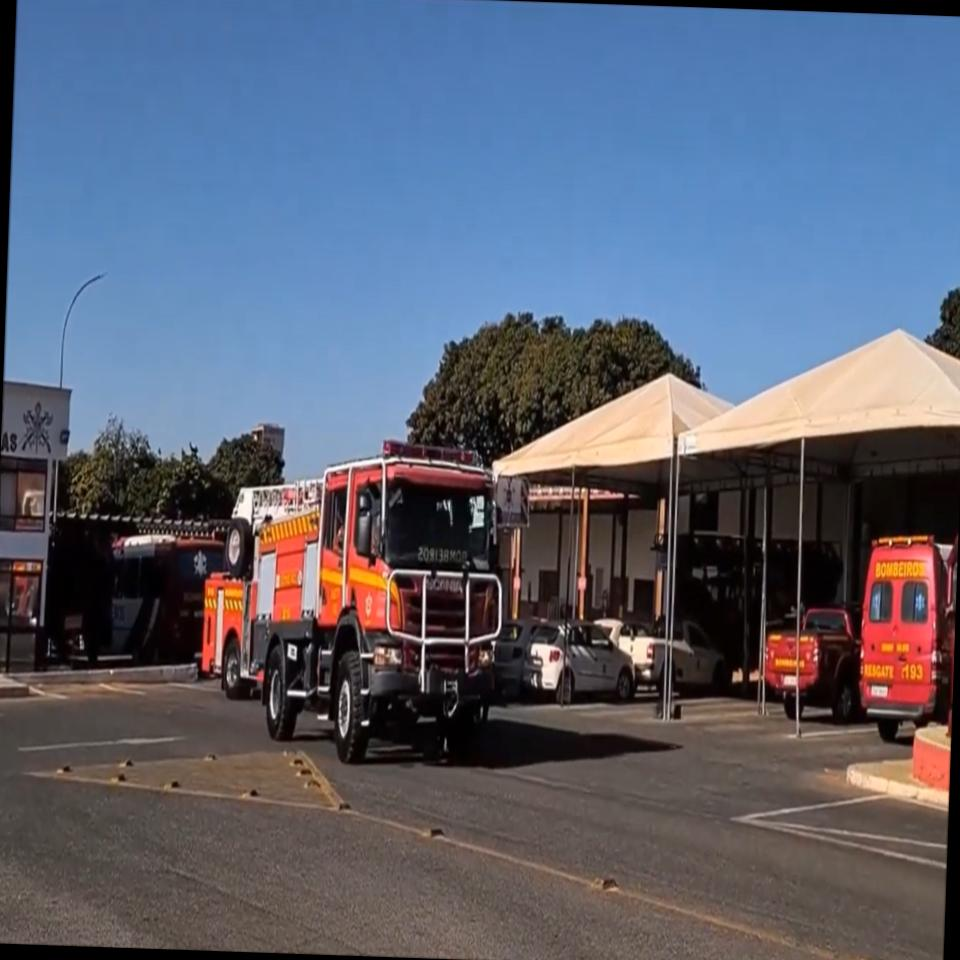viatura: (218, 434, 507, 771)
